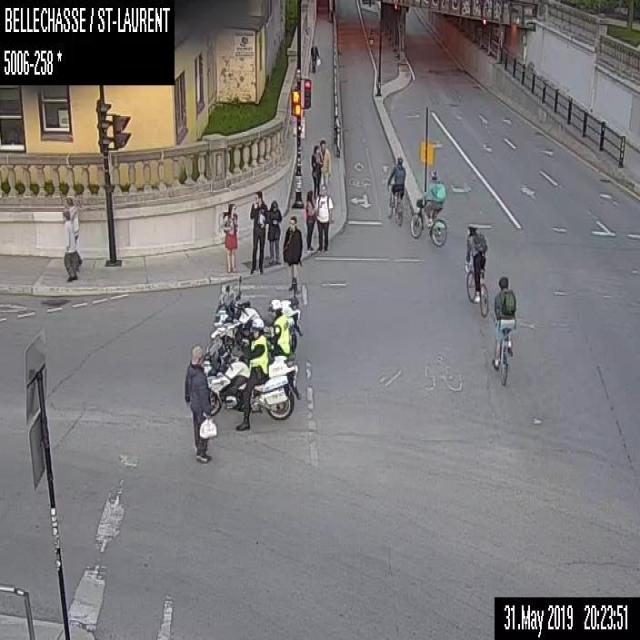cyclist: (489, 274, 516, 382), (410, 168, 447, 245), (463, 222, 489, 318), (386, 155, 408, 224)
pedestrian: (183, 344, 217, 461), (248, 190, 268, 274), (281, 214, 303, 290), (314, 183, 332, 254), (65, 196, 81, 268), (61, 210, 77, 281), (222, 202, 238, 270), (266, 198, 281, 262), (310, 142, 322, 198), (304, 190, 315, 251), (319, 138, 331, 193), (310, 38, 320, 73)
vehicle: (201, 318, 297, 432), (213, 276, 301, 356)
